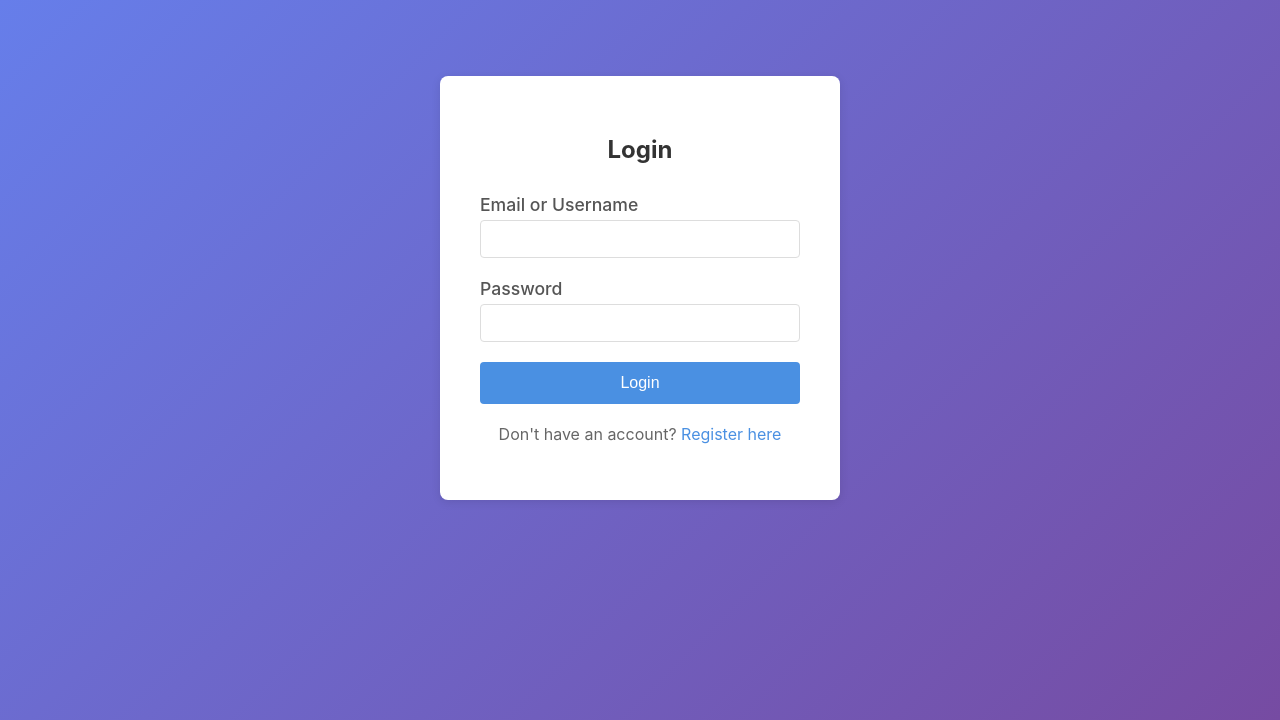
Test case: Login Component › Failed Login › should display error message on login failure with API error message
Type "testuser" into the field labelled "Email or Username" at point(640, 240), box [480,220,800,258]
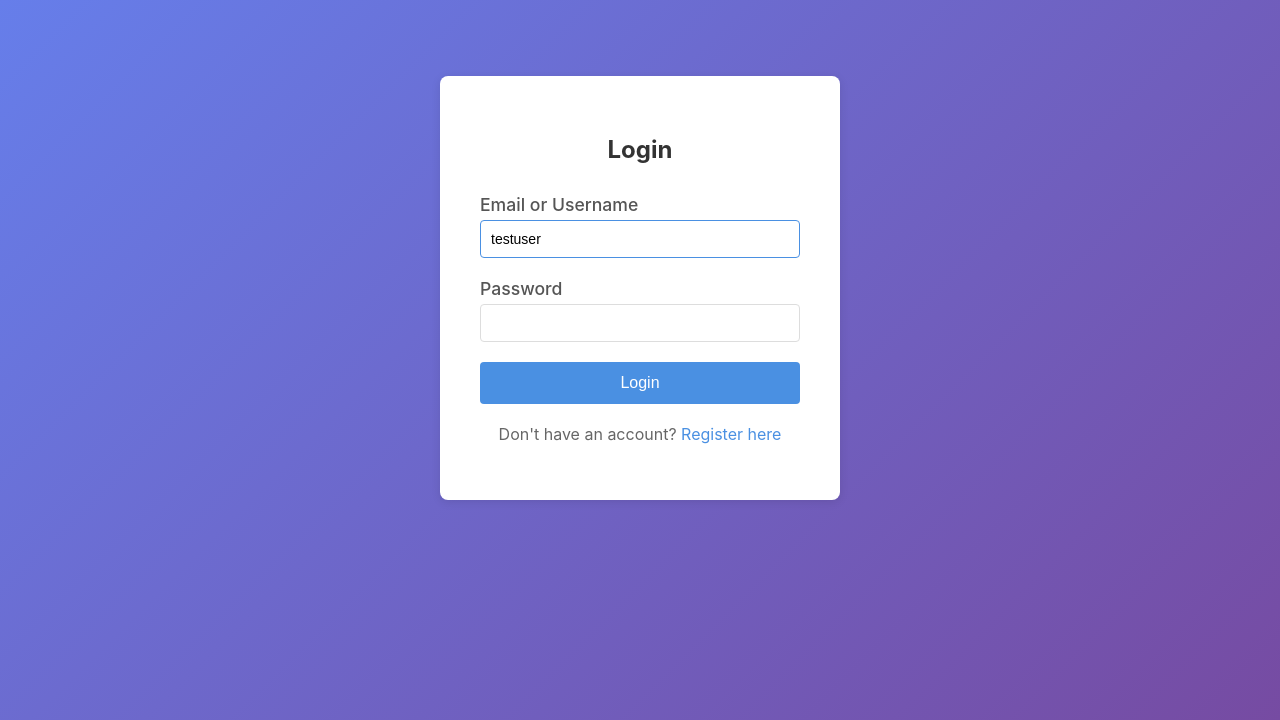
Type "wrongpassword" into the password field labelled "Password" at point(640, 324), box [480,304,800,342]
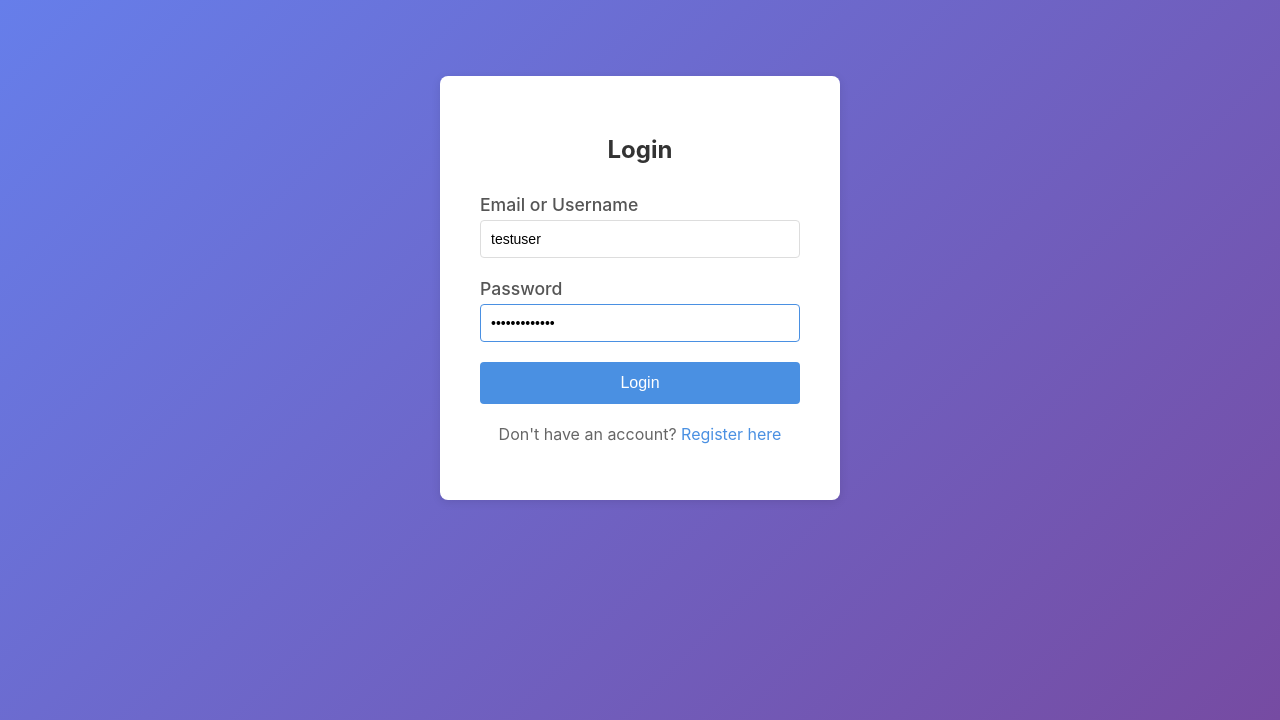
Click the button "Login" at point(640, 384), box [480,362,800,404]
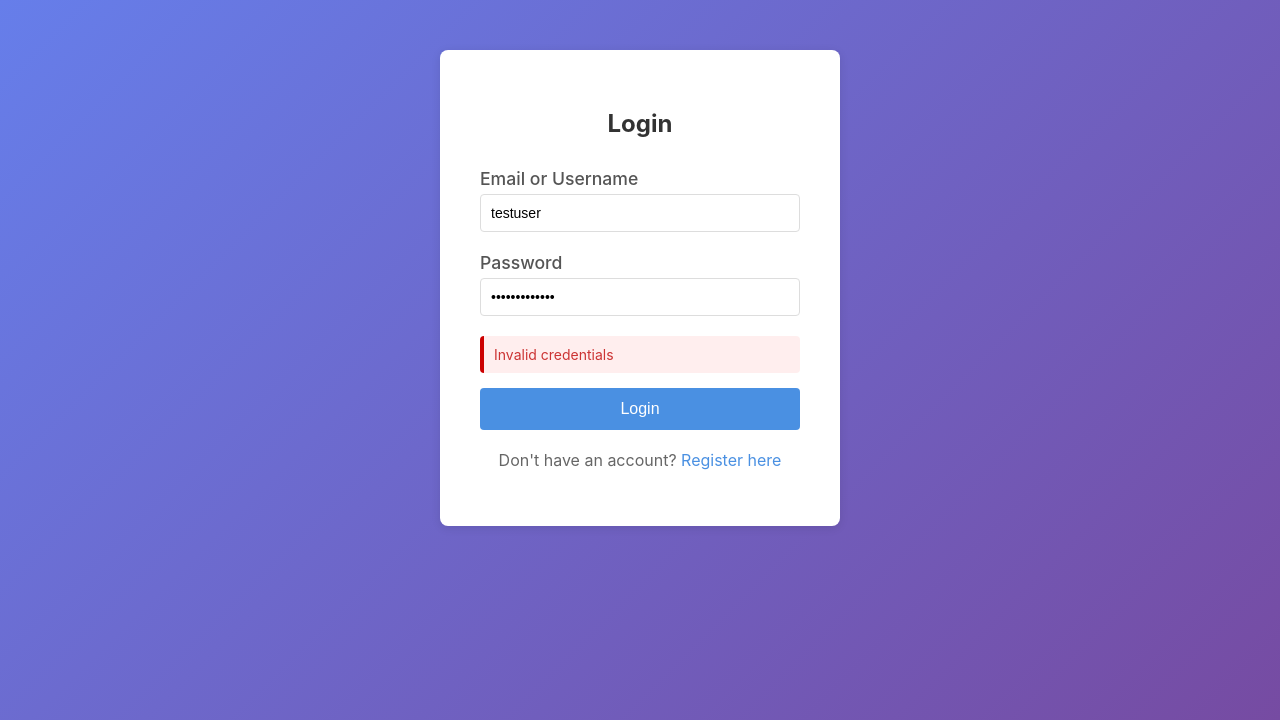
expect the text "Invalid credentials" is shown: met, box [480,336,800,374]
